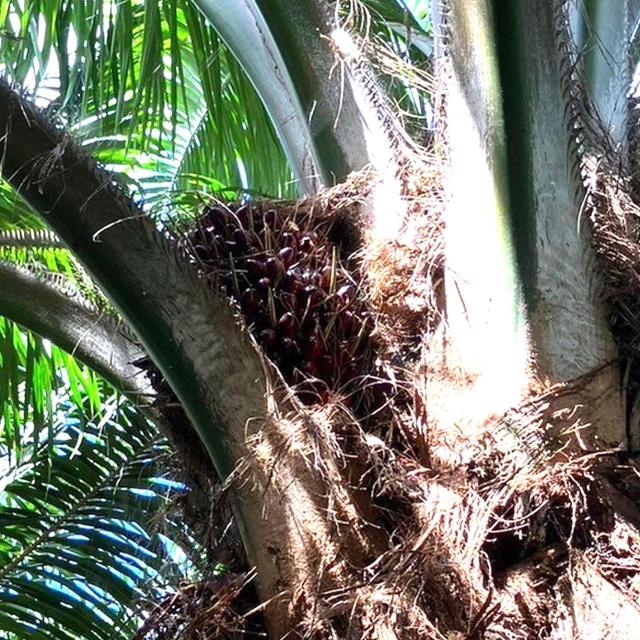ripe: (120, 178, 425, 516)
